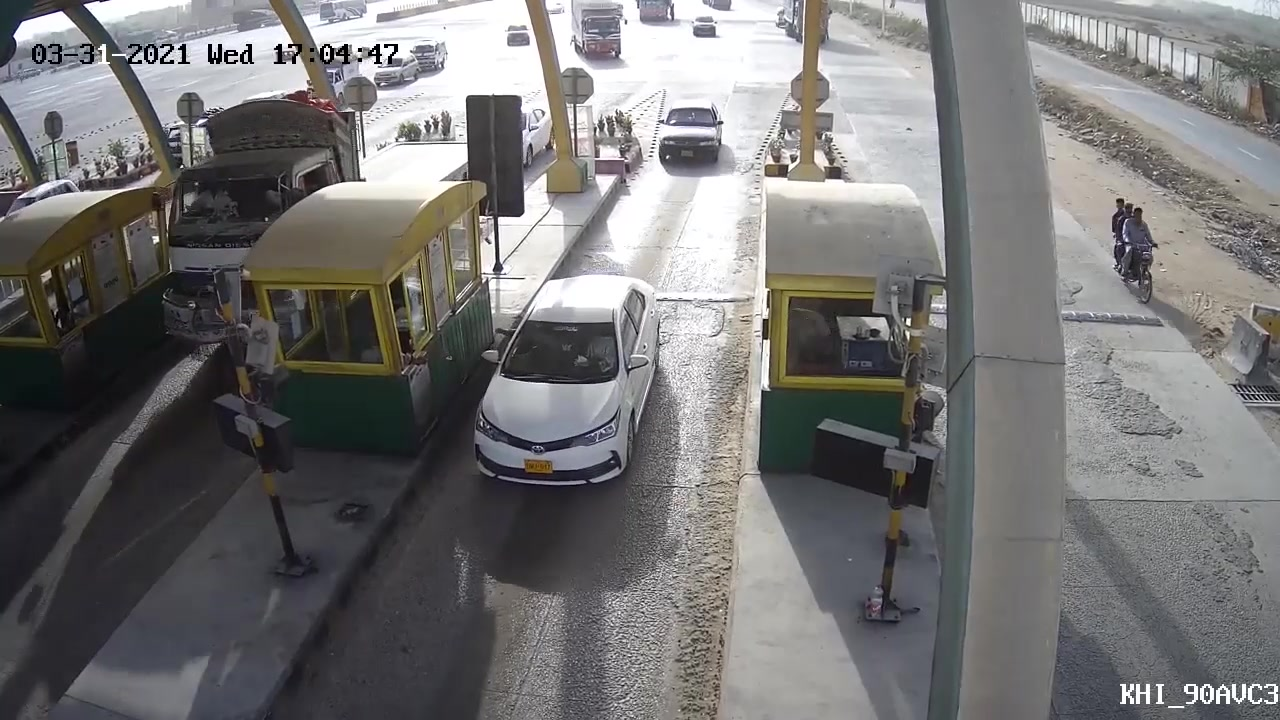F1: (460, 270, 673, 520), (648, 103, 728, 176)
